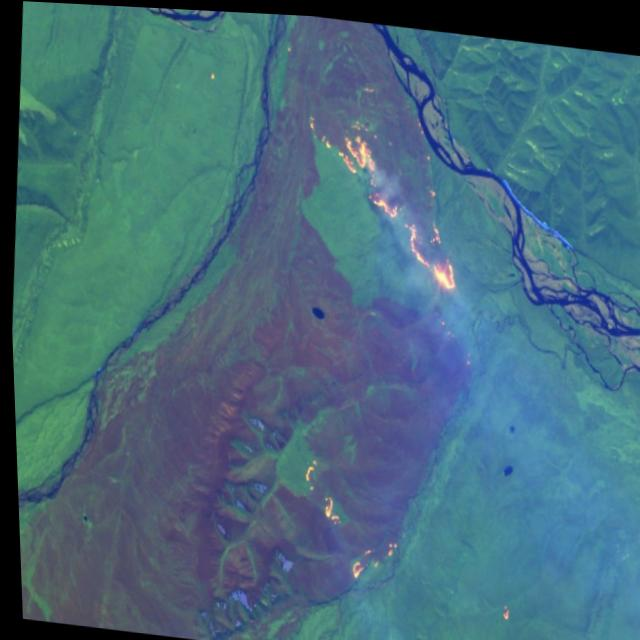fire: (290, 68, 478, 310), (289, 445, 409, 587), (490, 591, 508, 616)
